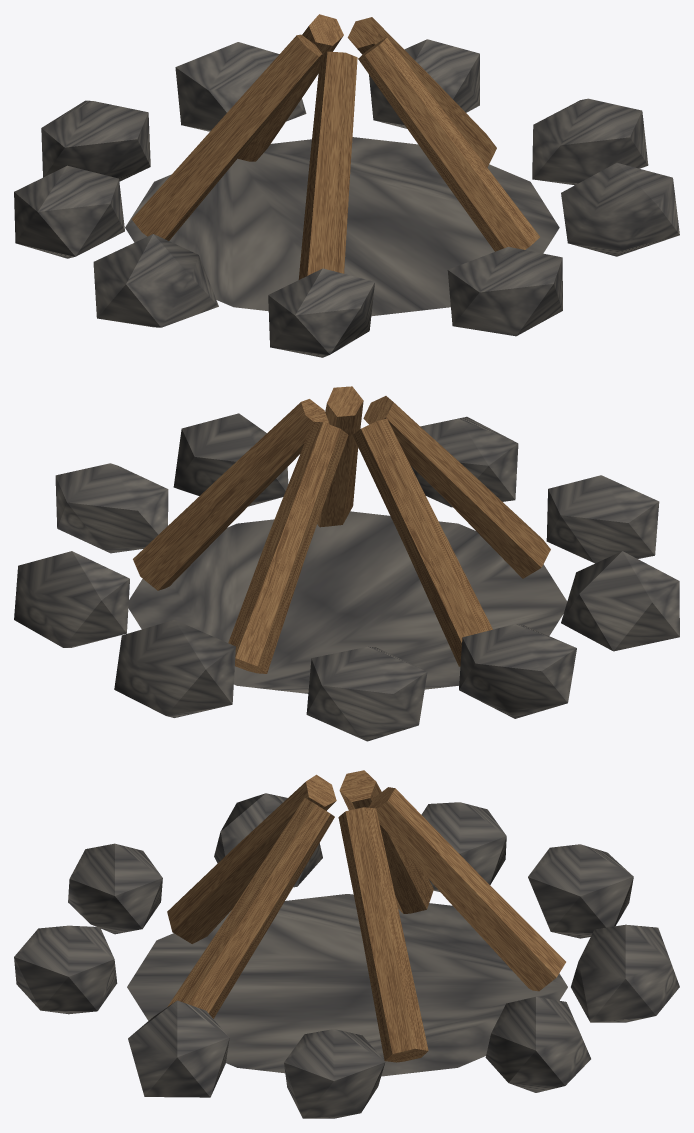
Rendered from PROP_Campfire.fbx.
3 views of the same model, one above another, from view 1: azimuth 30°, elevation 25°; view 2: azimuth 150°, elevation 25°; view 3: azimuth 270°, elevation 25° (orthographic).
Parts seen in each view (by area): view 1: PROP_Campfire; view 2: PROP_Campfire; view 3: PROP_Campfire.
Part boxes in pixels (bbox=[...]): PROP_Campfire: bbox=[14, 14, 679, 357]; PROP_Campfire: bbox=[14, 386, 679, 741]; PROP_Campfire: bbox=[14, 770, 679, 1118].
Bounding box in the file's own units: 1.01 × 0.3605 × 0.9961.
